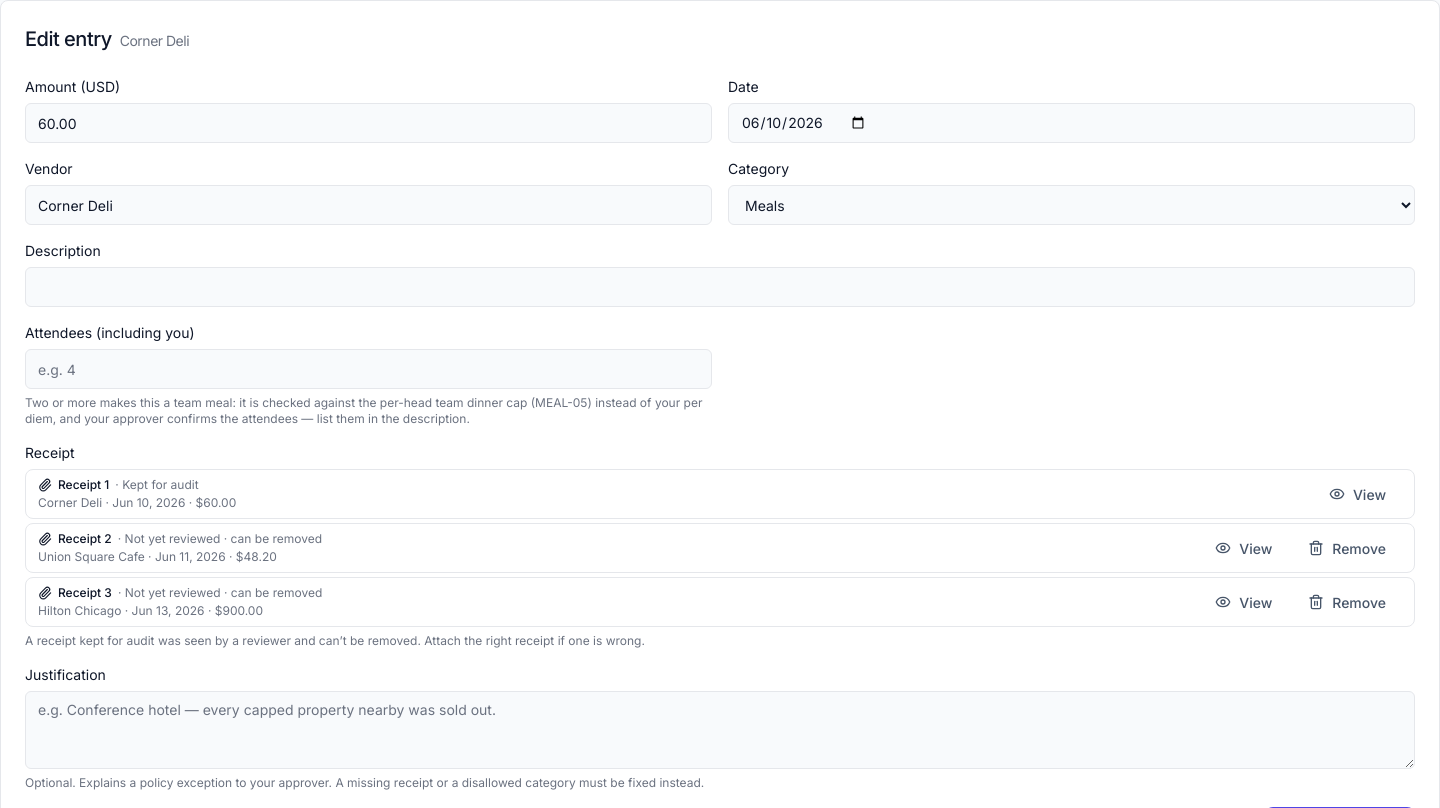
it: the entry editor's receipt list (defect H) › View works for a receipt kept for audit too
What coordinates should you click on to do the following:
click the button "View" in the row of "Receipt 1"
I would click on:
 (1357, 494)
Its box is [1313,476,1402,512].
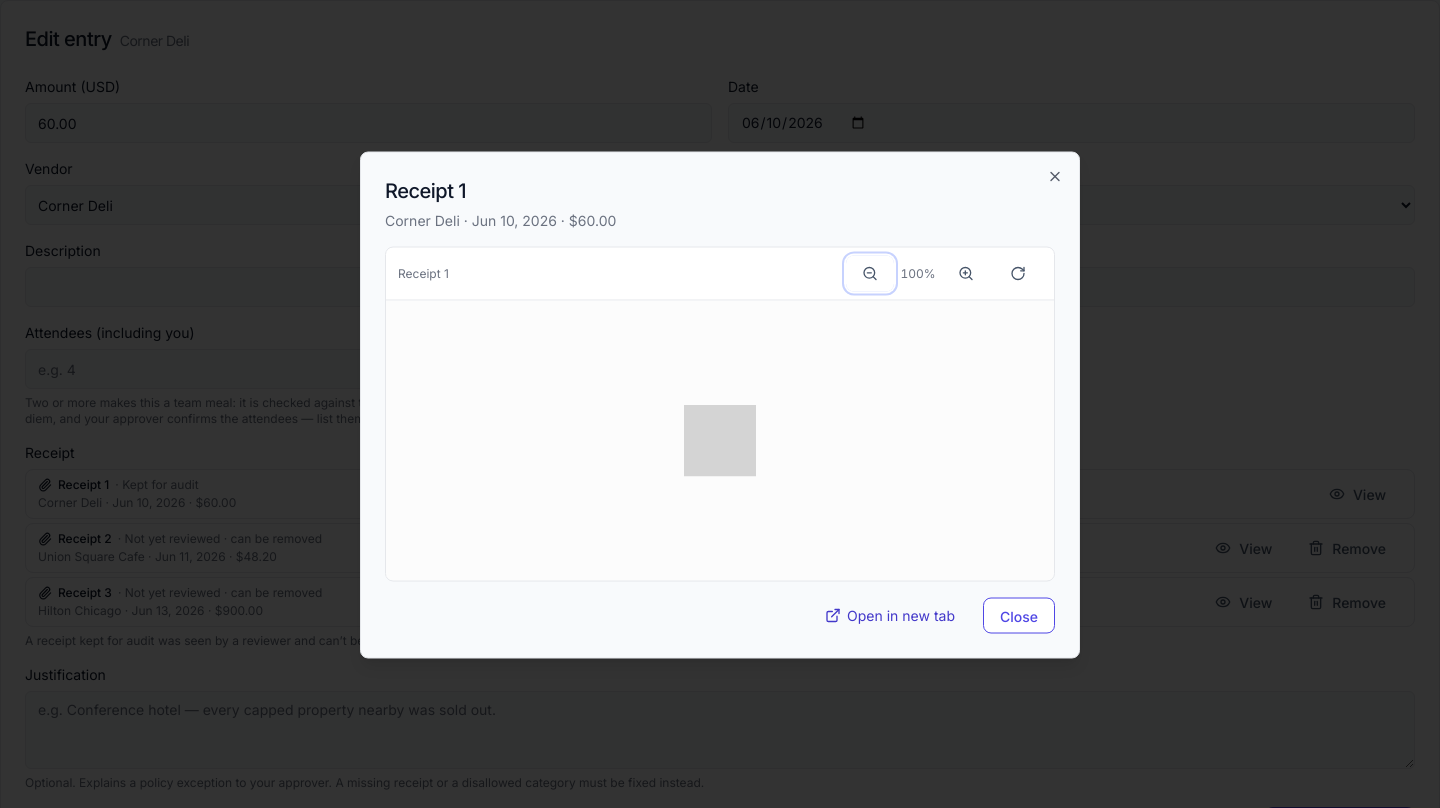
Expected: the dialog "Receipt 1" is shown, [360,152,1080,658]
